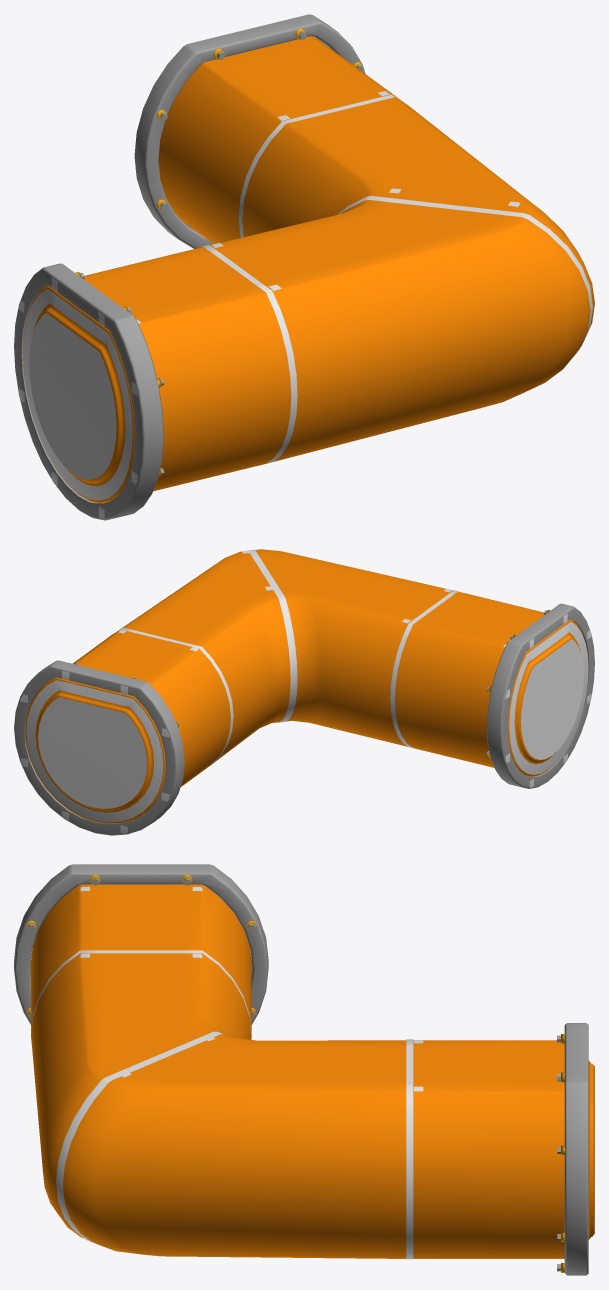
Rendered from LargePipeCorner.fbx.
The picture shows the model from 3 angles, top to bottom: view 1: azimuth 30°, elevation 25°; view 2: azimuth 150°, elevation 25°; view 3: azimuth 270°, elevation 25°; orthographic projection. The views are drawn at different scales.
Visible parts, largest first — view 1: Cylinder.016, Cylinder.017, StylizedHardSurface_Decals_017.004_projected.004, StylizedHardSurface_TrimDecals_010.005, StylizedHardSurface_Panels_008.010, StylizedHardSurface_Panels_008.011; view 2: Cylinder.016, StylizedHardSurface_Decals_017.004_projected.004, Cylinder.017, StylizedHardSurface_TrimDecals_010.005, StylizedHardSurface_Panels_008.010, StylizedHardSurface_Panels_008.011; view 3: Cylinder.016, Cylinder.017, StylizedHardSurface_Panels_008.010, StylizedHardSurface_Panels_008.011.
Part boxes in pixels (box(x1,y1,x2,y2)): Cylinder.016: box(22, 36, 594, 503); Cylinder.017: box(14, 14, 365, 520); StylizedHardSurface_Decals_017.004_projected.004: box(29, 312, 116, 480); StylizedHardSurface_TrimDecals_010.005: box(23, 289, 132, 500); StylizedHardSurface_Panels_008.010: box(202, 94, 408, 463); StylizedHardSurface_Panels_008.011: box(337, 196, 592, 350); Cylinder.016: box(25, 549, 588, 823); StylizedHardSurface_Decals_017.004_projected.004: box(38, 639, 583, 808); Cylinder.017: box(14, 603, 594, 835); StylizedHardSurface_TrimDecals_010.005: box(26, 622, 588, 822); StylizedHardSurface_Panels_008.010: box(112, 590, 458, 764); StylizedHardSurface_Panels_008.011: box(248, 549, 297, 722); Cylinder.016: box(31, 884, 594, 1258); Cylinder.017: box(14, 864, 588, 1275); StylizedHardSurface_Panels_008.010: box(31, 950, 413, 1259); StylizedHardSurface_Panels_008.011: box(56, 1031, 223, 1248).
Size of the model in its own units: 649 by 261 by 649.
